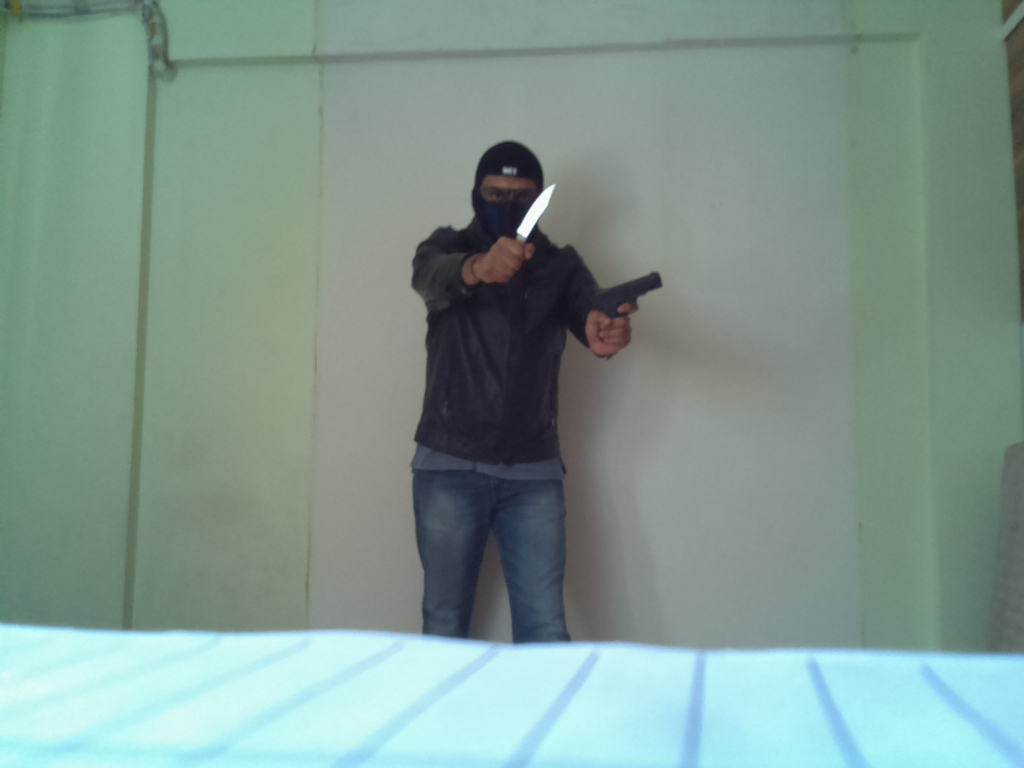gun: (589, 266, 673, 337)
knife: (508, 181, 561, 263)
